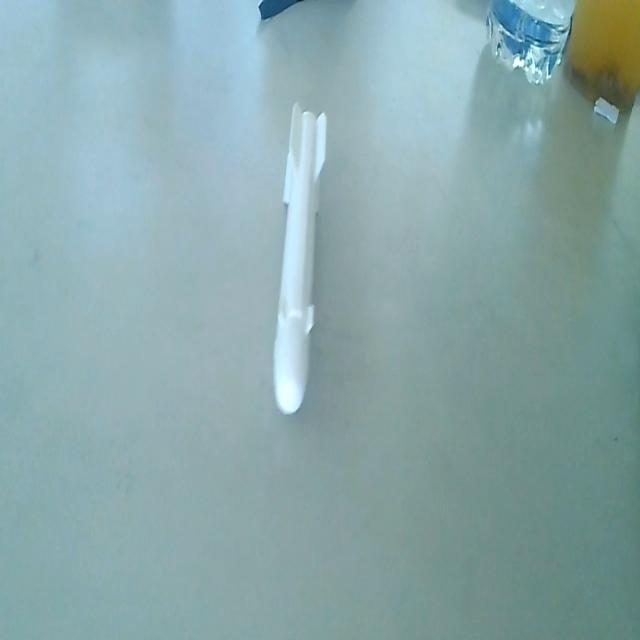Rocket: (272, 95, 330, 422)
